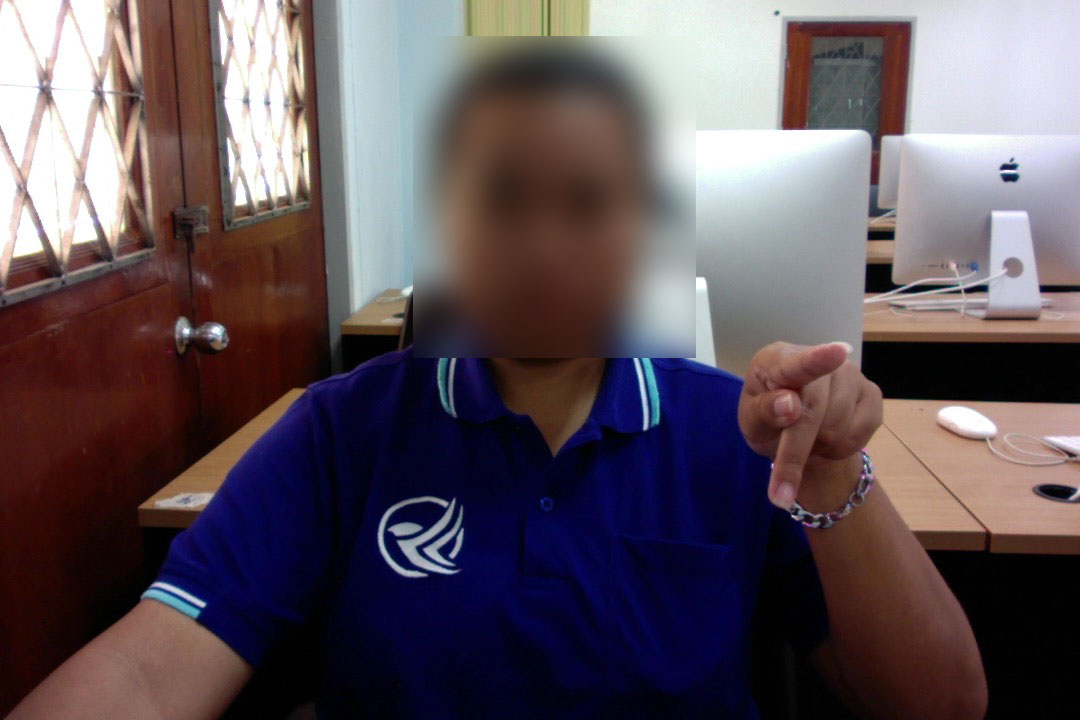por: (735, 325, 886, 510)
